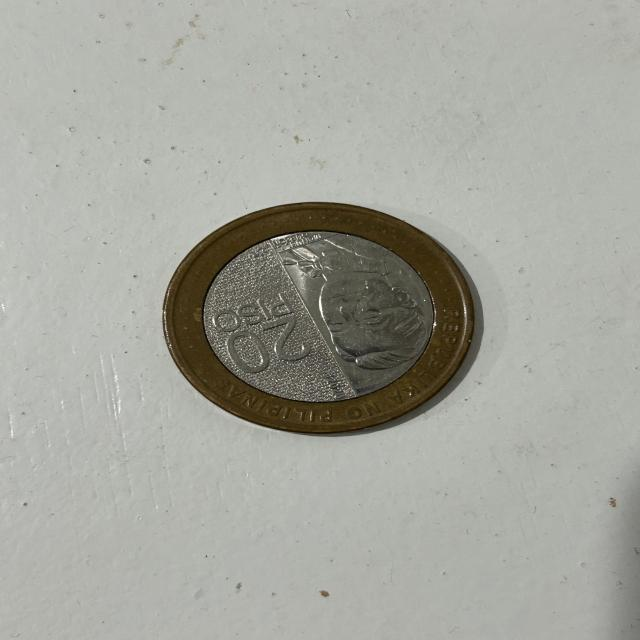20_New_Front: (204, 289, 326, 375)
